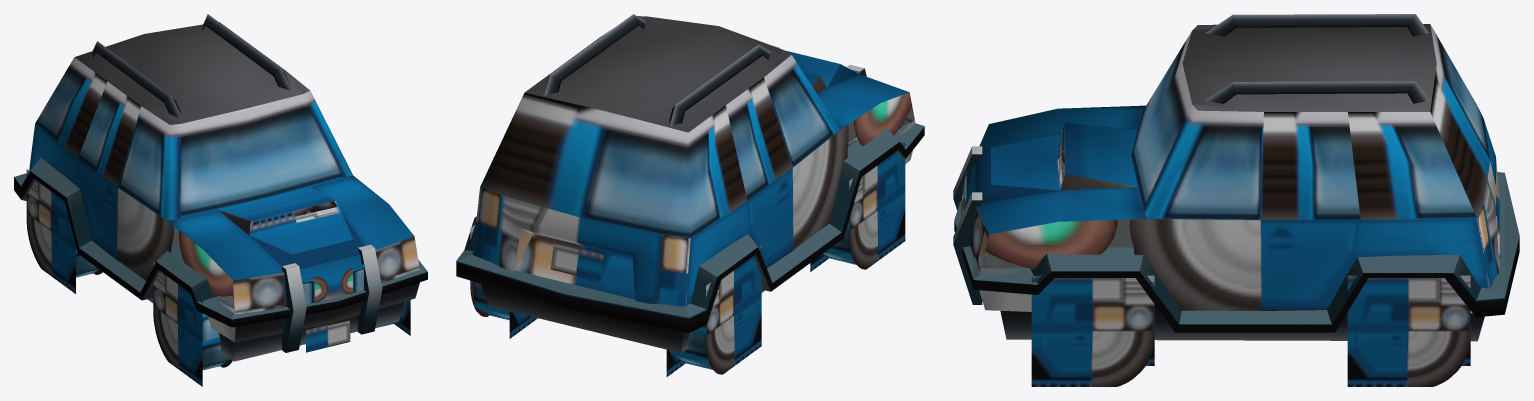
Rendered from Car.obj.
The picture shows the model from 3 angles, left to right: view 1: azimuth 30°, elevation 25°; view 2: azimuth 150°, elevation 25°; view 3: azimuth 270°, elevation 25°; orthographic projection. The views are drawn at different scales.
Parts seen in each view (by area): view 1: Car_polygon0.700; view 2: Car_polygon0.700; view 3: Car_polygon0.700.
Part boxes in pixels (x1,y1,x2,y2): Car_polygon0.700: (14, 14, 427, 386); Car_polygon0.700: (456, 14, 924, 376); Car_polygon0.700: (953, 14, 1519, 386).
Size of the model in its own units: 0.3024 by 0.2985 by 0.555.
Materials: 1 (1 with a texture image).
